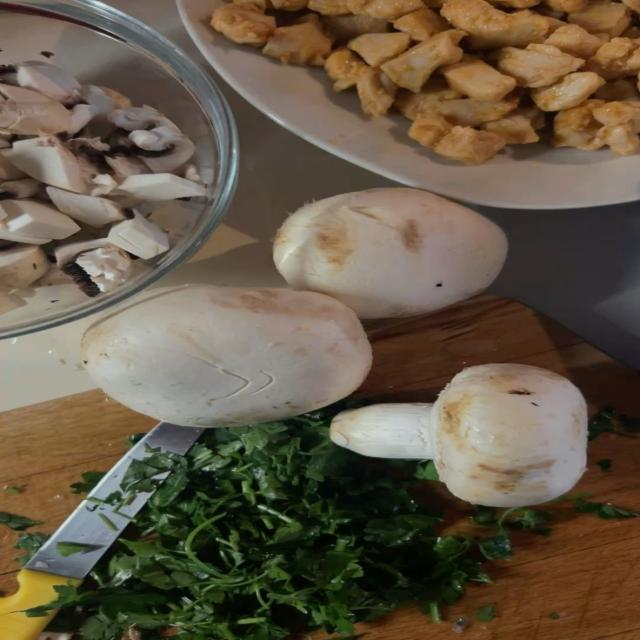champignon mushrooms: (0, 61, 206, 295), (82, 286, 371, 426), (331, 364, 586, 506), (274, 188, 506, 318), (112, 106, 194, 173), (0, 137, 92, 193), (55, 239, 132, 296), (0, 85, 70, 135), (0, 199, 79, 239), (129, 126, 194, 173), (47, 187, 125, 226), (107, 212, 168, 258), (17, 61, 79, 102), (0, 245, 49, 294), (118, 174, 206, 201), (67, 104, 96, 134), (0, 179, 41, 199), (0, 153, 26, 181)
